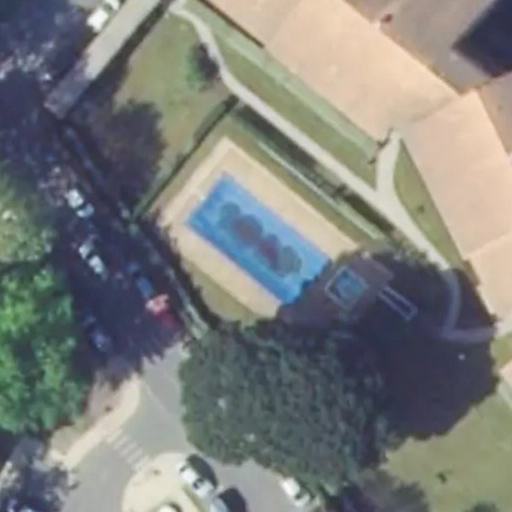pool: (188, 170, 332, 304)
